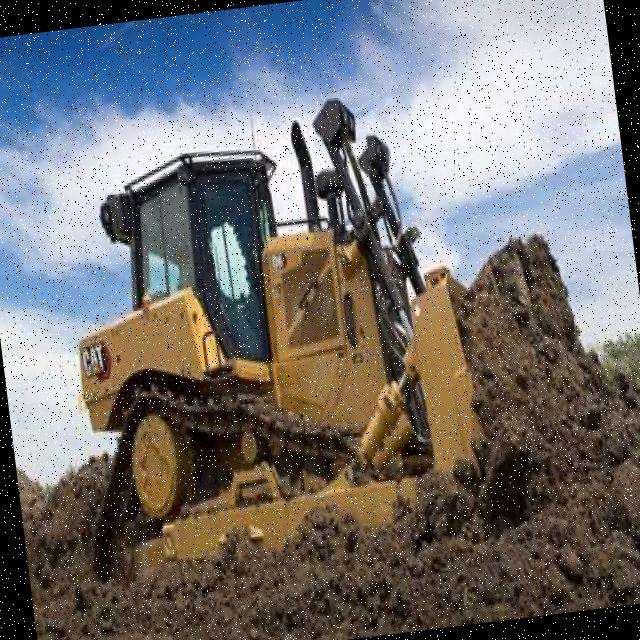Bulldozer: (34, 49, 526, 596)
